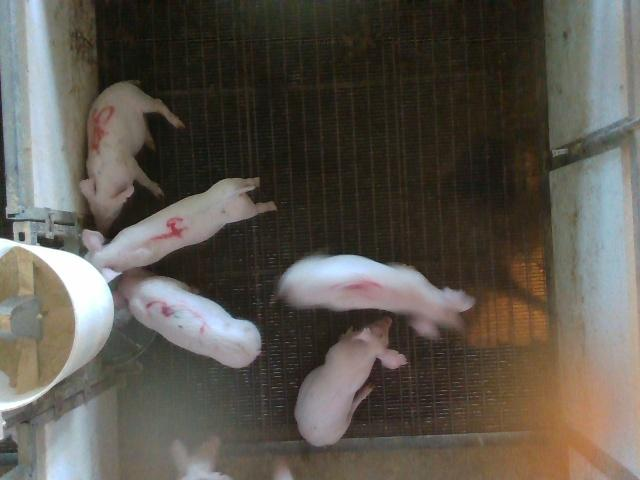pig-1: (278, 255, 475, 338)
pig-3: (114, 268, 261, 368)
pig-4: (82, 178, 276, 281)
pig-5: (80, 81, 184, 232)
